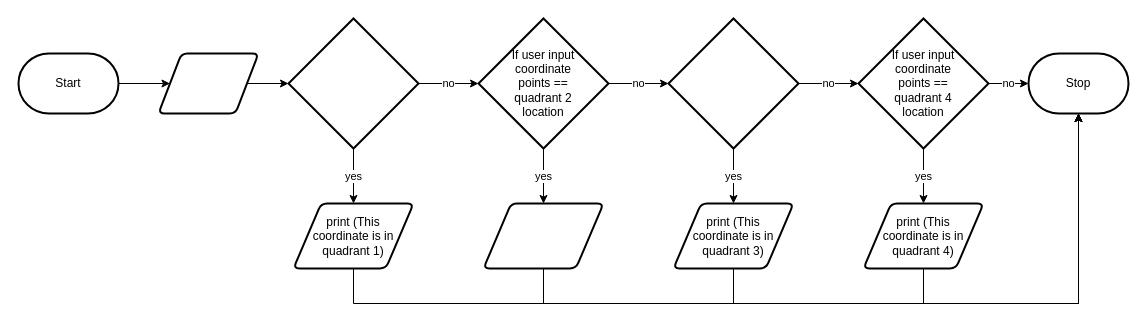
The diagram is 1146 pixels wide and 329 high, and some of its shapes have lost their labels. Each missing label, with the box of its shape:
Get user input: (157, 52, 259, 114)
If user input coordinate points == quadrant 1 location: (287, 17, 419, 149)
If user input coordinate points == quadrant 3 location: (667, 17, 799, 149)
print (This coordinate is in quadrant 2): (482, 202, 604, 269)
